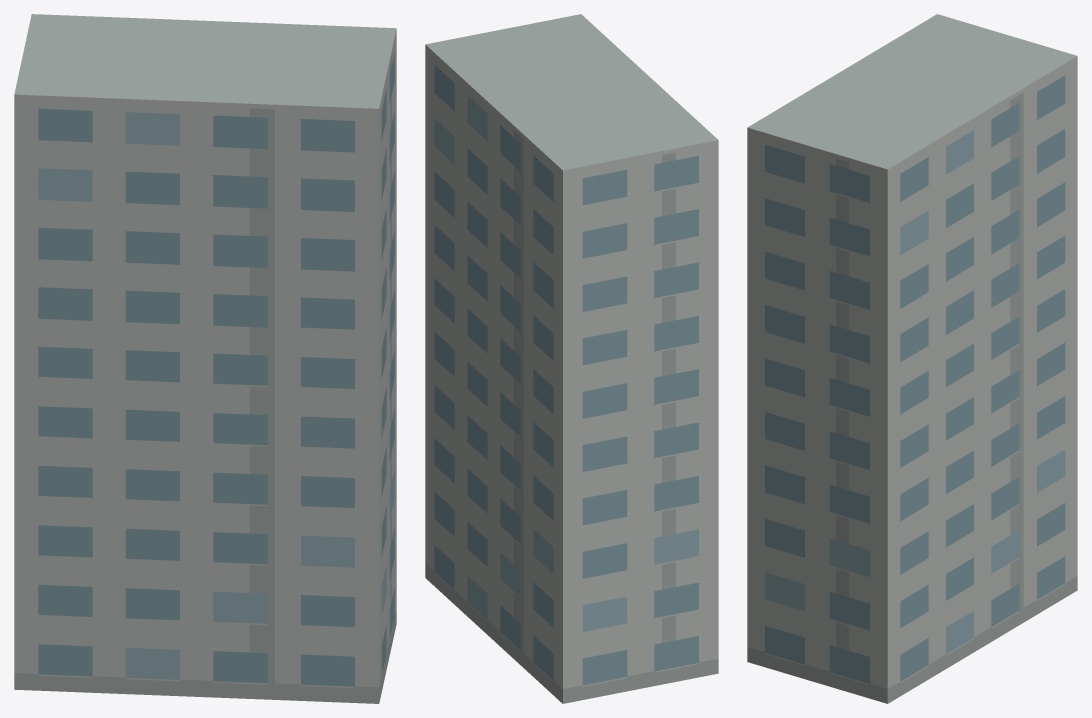
Rendered from residential-2f8cf55b-bf47-4efe-bcef-6e7aed83051e.glb.
3 renders of one model, left to right at view 1: azimuth 30°, elevation 25°; view 2: azimuth 150°, elevation 25°; view 3: azimuth 270°, elevation 25°, orthographic. The views are drawn at different scales.
Parts seen in each view (by area): view 1: residential-2f8cf55b-bf47-4efe-bcef-6e7aed83051e.tmp; view 2: residential-2f8cf55b-bf47-4efe-bcef-6e7aed83051e.tmp; view 3: residential-2f8cf55b-bf47-4efe-bcef-6e7aed83051e.tmp.
Boxes of the visible parts, x1,y1,x2,y2 form: residential-2f8cf55b-bf47-4efe-bcef-6e7aed83051e.tmp: (14, 14, 396, 703); residential-2f8cf55b-bf47-4efe-bcef-6e7aed83051e.tmp: (425, 14, 718, 703); residential-2f8cf55b-bf47-4efe-bcef-6e7aed83051e.tmp: (747, 14, 1077, 703).
Size of the model in its own units: 19.35 by 31 by 17.38.
